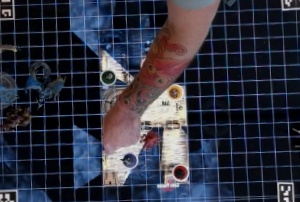green: (99, 70, 118, 84)
red: (172, 162, 190, 182)
violet: (120, 151, 139, 169)
yellow: (166, 81, 184, 100)
